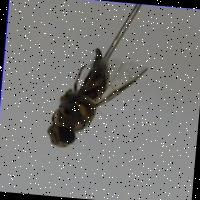Oriental-fruit-fly: (41, 40, 151, 158)
